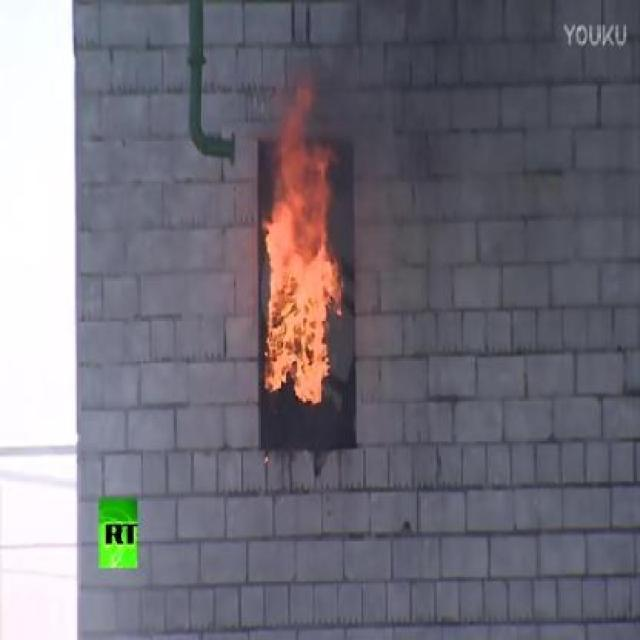Fire: (252, 73, 348, 404)
